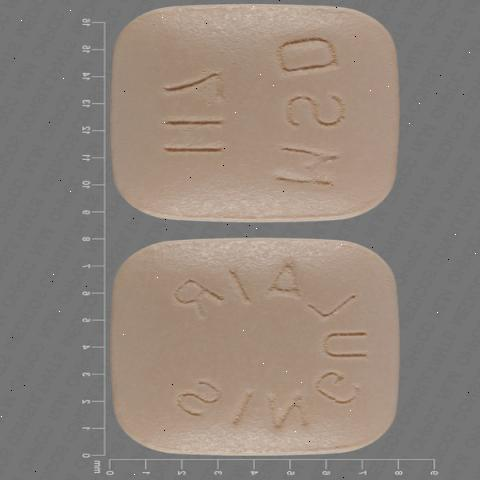Pill: (88, 232, 439, 461), (91, 8, 439, 232)
